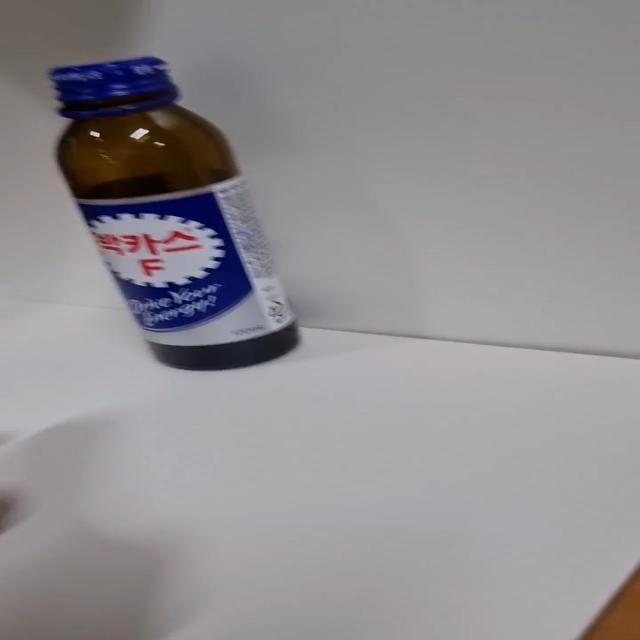Glass: (47, 57, 302, 374)
